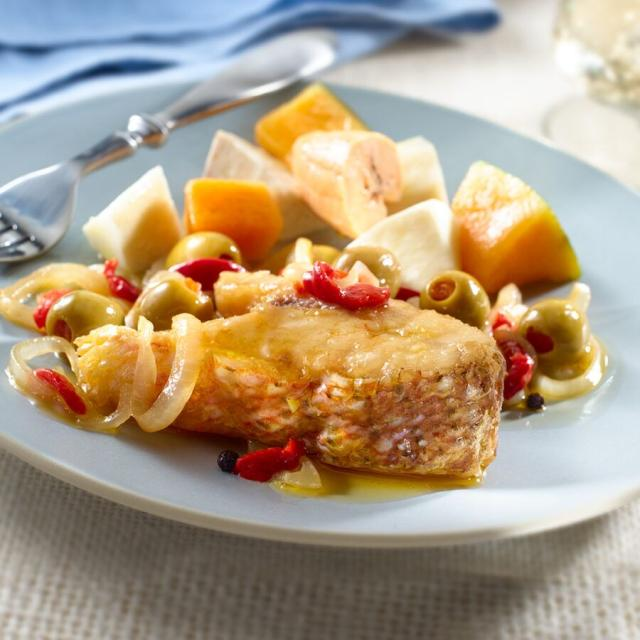pescado: (70, 300, 502, 482)
